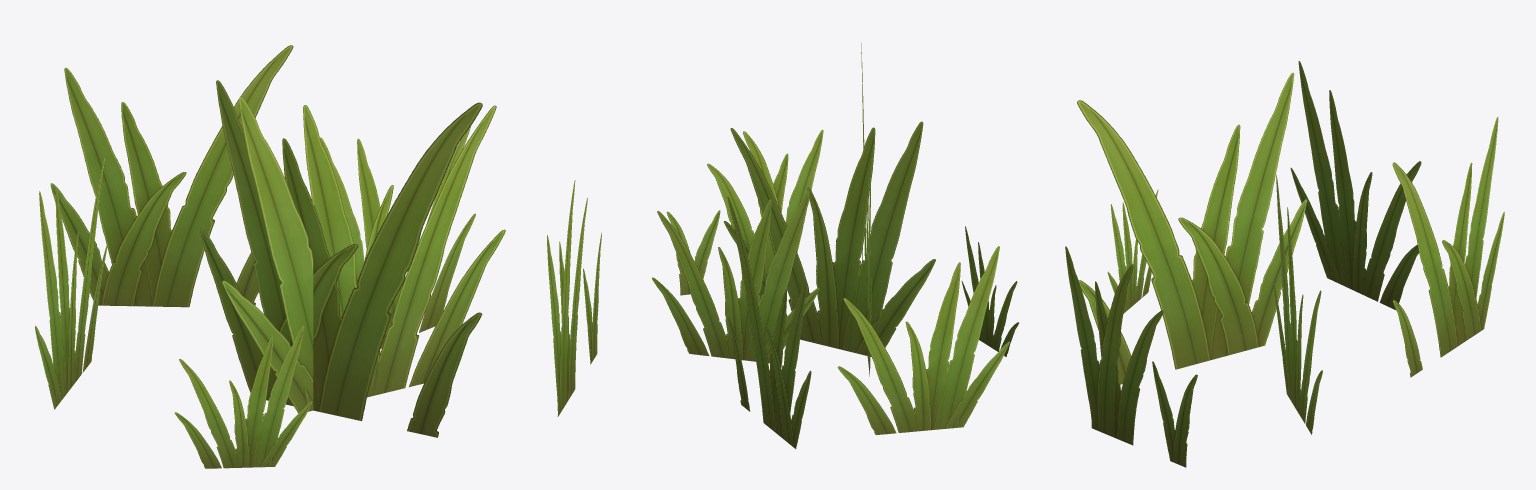
The model's file is Grass02.fbx.
The picture shows the model from 3 angles, left to right: view 1: azimuth 30°, elevation 25°; view 2: azimuth 150°, elevation 25°; view 3: azimuth 270°, elevation 25°; orthographic projection. The views are drawn at different scales.
Parts seen in each view (by area): view 1: Stylized_Grass_alpha_4_LOD0; view 2: Stylized_Grass_alpha_4_LOD0; view 3: Stylized_Grass_alpha_4_LOD0.
Boxes of the visible parts, x1,y1,x2,y2 form: Stylized_Grass_alpha_4_LOD0: (35, 45, 601, 468); Stylized_Grass_alpha_4_LOD0: (652, 43, 1018, 448); Stylized_Grass_alpha_4_LOD0: (1065, 61, 1504, 467).
Size of what is drawn, in the model's own units: 58.85 by 38.59 by 52.77.
